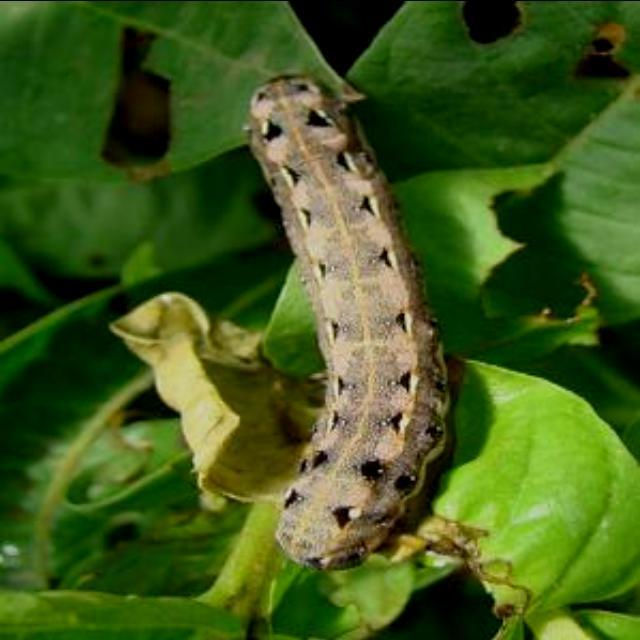Tobacco cutworm: (226, 62, 480, 578)
